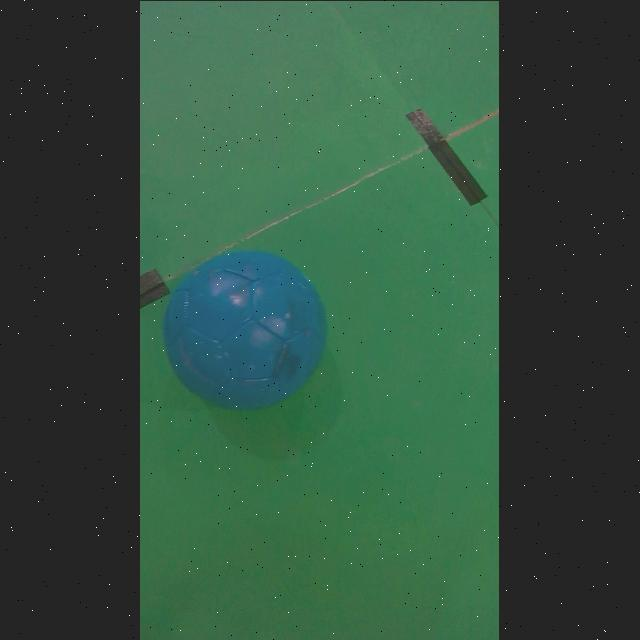B: (165, 250, 327, 409)
